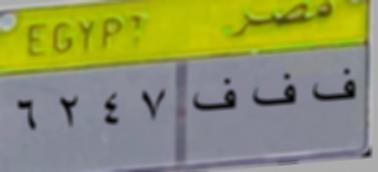2: (57, 90, 82, 130)
4: (104, 88, 122, 128)
6: (13, 92, 42, 138)
7: (140, 86, 168, 123)
faa: (247, 68, 300, 113), (187, 71, 240, 116), (307, 64, 358, 110)
